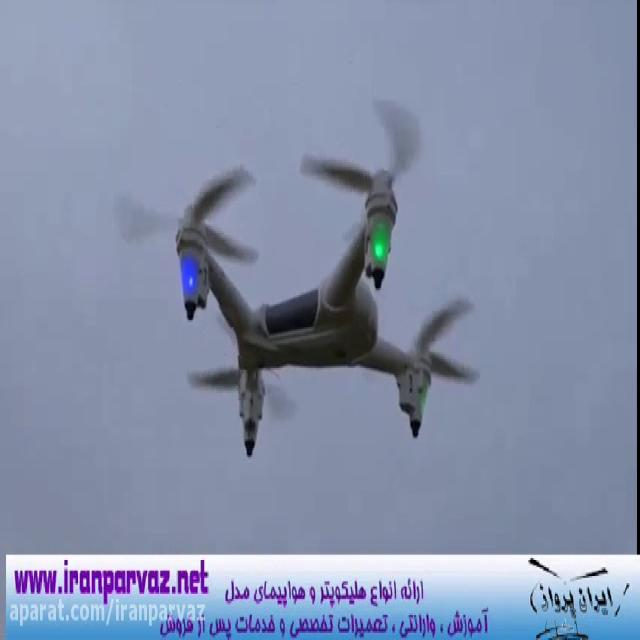drone: (107, 87, 485, 468)
